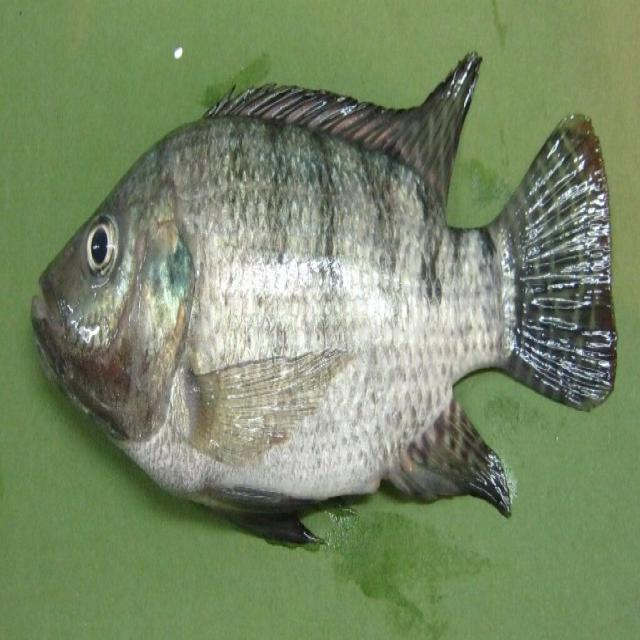ikan: (17, 38, 628, 563)
